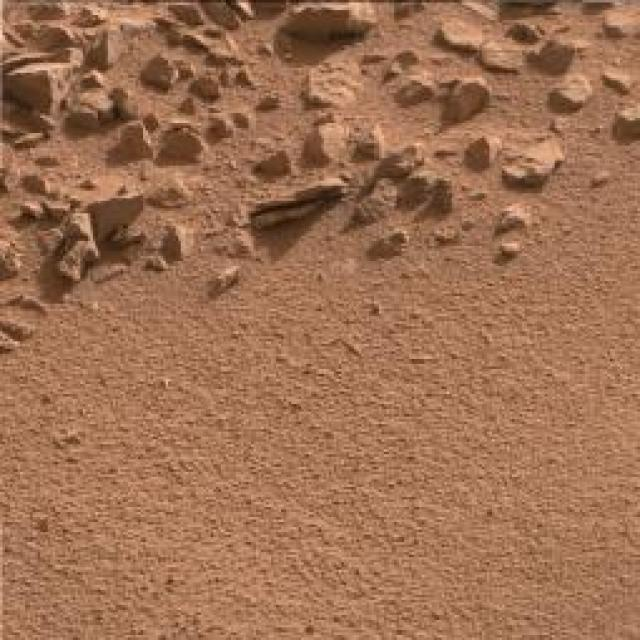rock: (0, 55, 78, 121), (280, 0, 384, 47), (248, 182, 350, 226), (56, 208, 103, 285), (307, 52, 366, 113), (174, 22, 258, 64), (67, 68, 113, 130), (502, 140, 561, 187), (444, 74, 486, 128), (90, 196, 148, 234), (206, 226, 264, 261), (85, 25, 132, 66), (382, 142, 430, 182), (354, 180, 404, 218), (256, 145, 294, 189), (367, 228, 416, 262), (0, 224, 25, 290), (153, 172, 195, 211), (538, 32, 576, 74), (207, 109, 258, 138), (115, 124, 154, 160), (482, 44, 532, 72), (0, 132, 25, 188), (138, 50, 176, 86), (435, 20, 480, 50), (168, 131, 208, 163), (393, 78, 432, 110), (163, 0, 211, 25), (312, 131, 348, 164), (552, 76, 588, 108), (388, 49, 426, 79), (357, 120, 385, 160), (162, 219, 189, 260), (207, 266, 246, 294), (491, 206, 530, 233), (462, 136, 494, 168), (192, 70, 226, 100), (604, 64, 635, 96), (506, 16, 541, 44), (614, 108, 640, 144), (260, 90, 282, 112), (500, 241, 524, 258)
